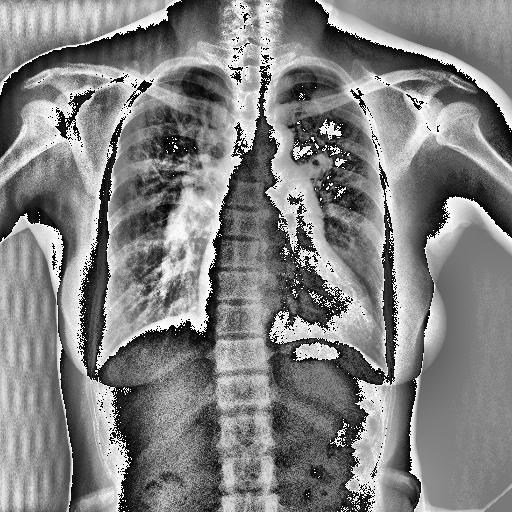3- Cardiomegaly: (179, 222, 379, 378), (180, 254, 394, 368), (171, 248, 375, 353)
